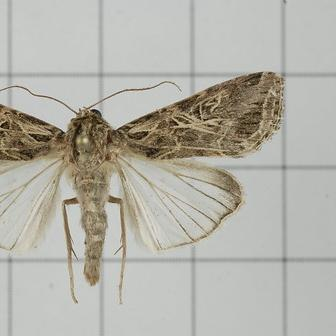Spodoptera litura: (1, 71, 285, 305)
